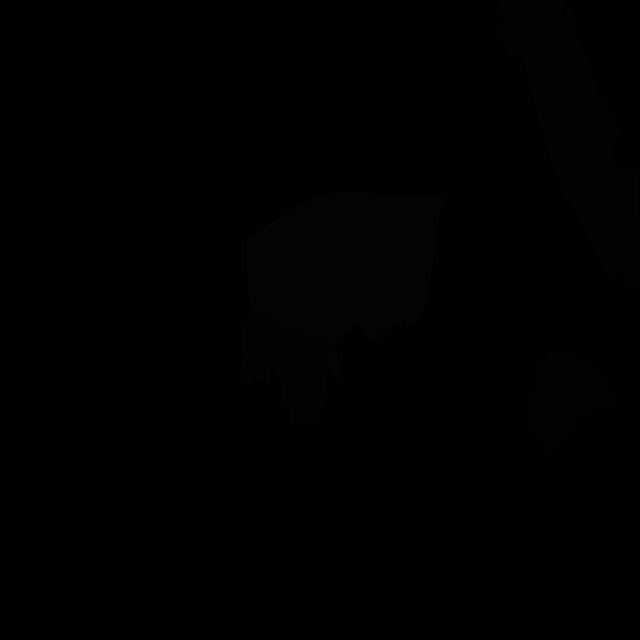cardboard: (496, 0, 640, 288), (527, 350, 620, 453)
metal: (239, 311, 330, 425)
soft_plastic: (246, 191, 446, 381)
